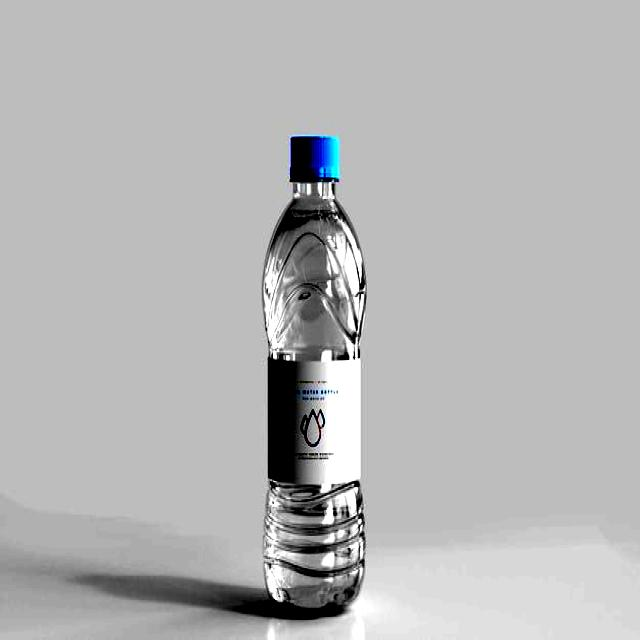full-bottle: (261, 137, 365, 614)
